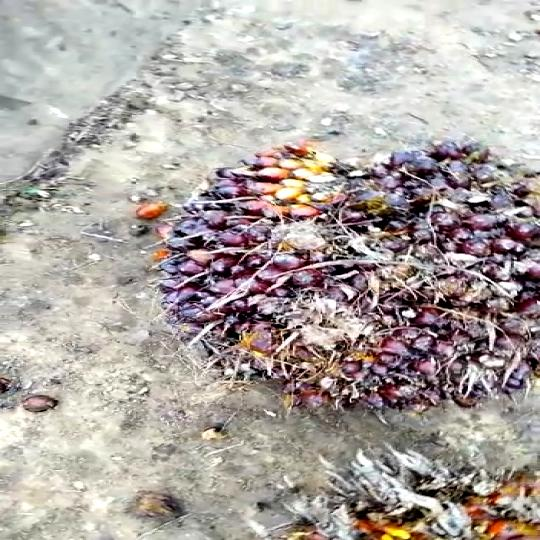mentah: (130, 110, 540, 417)
